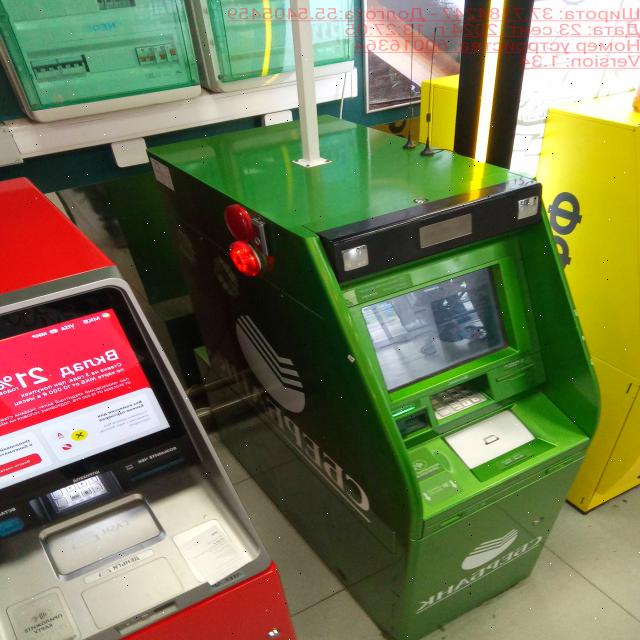bank: (146, 113, 603, 640)
